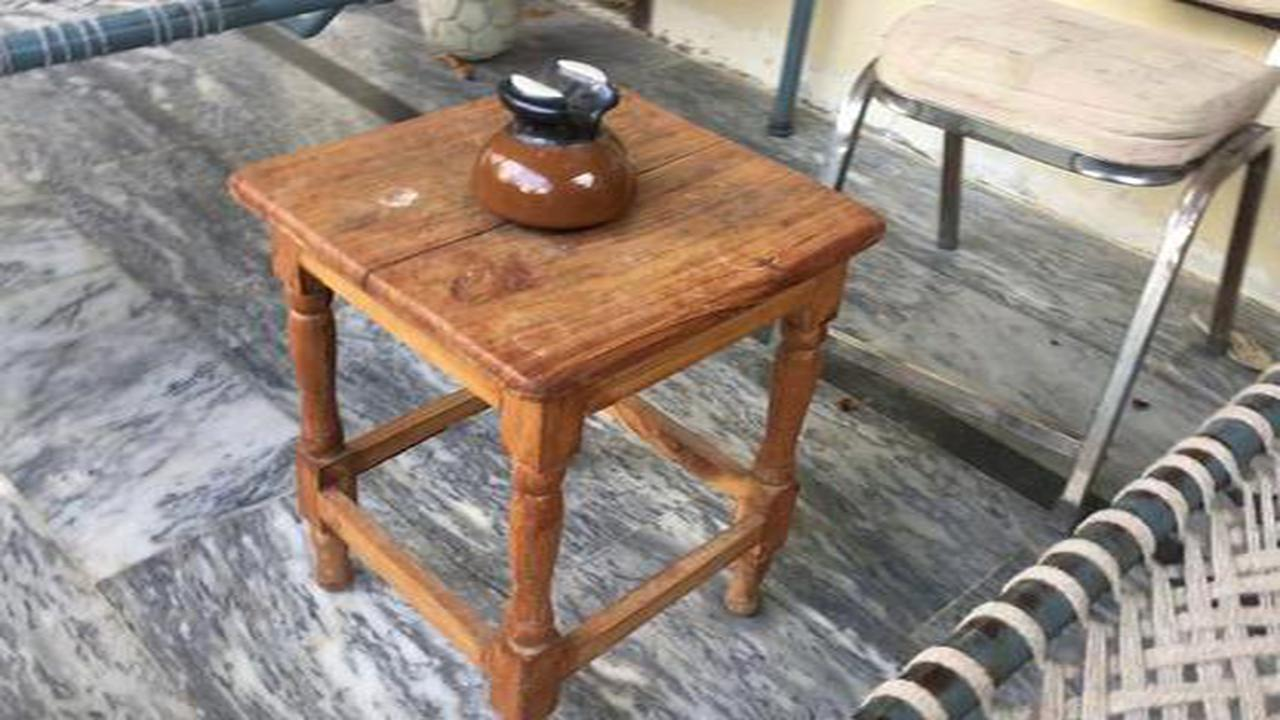insulator_pin: (447, 39, 653, 238)
